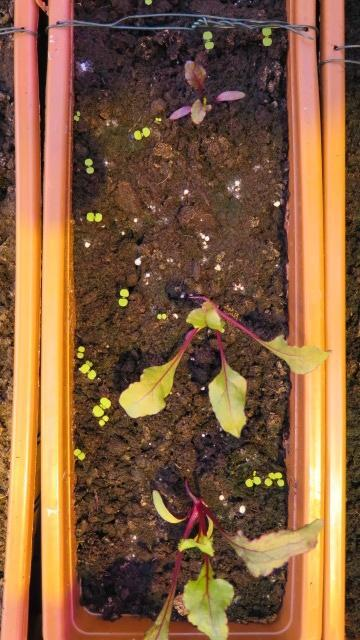weed: (130, 122, 150, 142), (81, 153, 94, 180), (82, 208, 103, 224), (243, 472, 261, 490), (116, 284, 129, 308), (260, 25, 273, 48), (201, 27, 213, 51), (70, 105, 82, 126), (71, 445, 85, 462), (74, 343, 84, 359), (154, 310, 168, 321)
